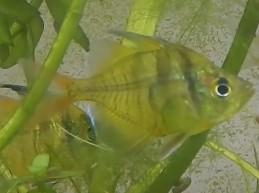Glass Perchlet: (20, 28, 254, 164)
